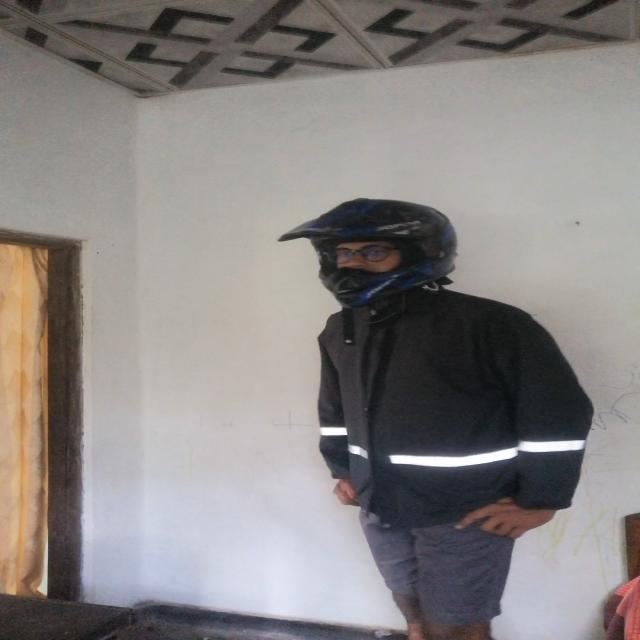Helmet_Wearer: (269, 188, 456, 301)
Jacket_Wearer: (264, 276, 590, 511)
